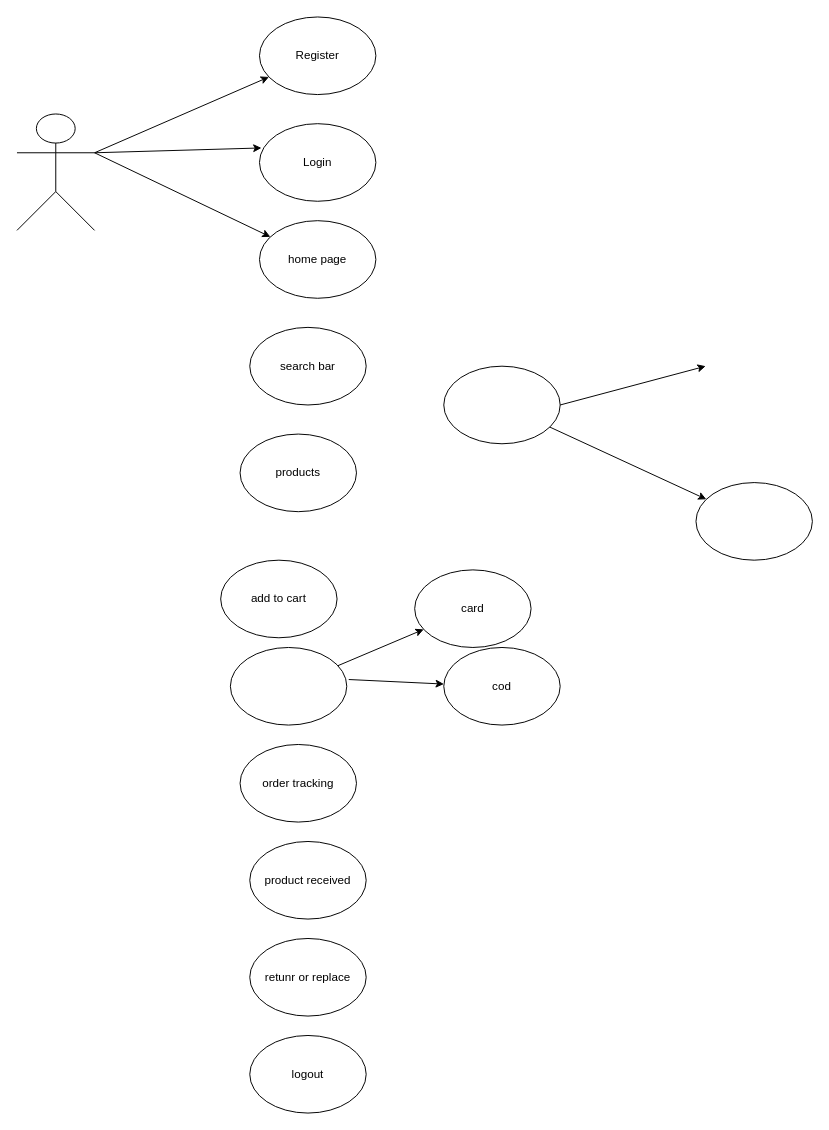
The diagram is 829 pixels wide and 1130 high, and some of its shapes have lost their labels. Here are the shapes that lost their labels. From the top down, the centre of each, then its label:
At [55,171]: "User".
At [288,686]: "payment".
